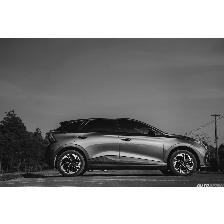EV: (43, 115, 212, 176)
